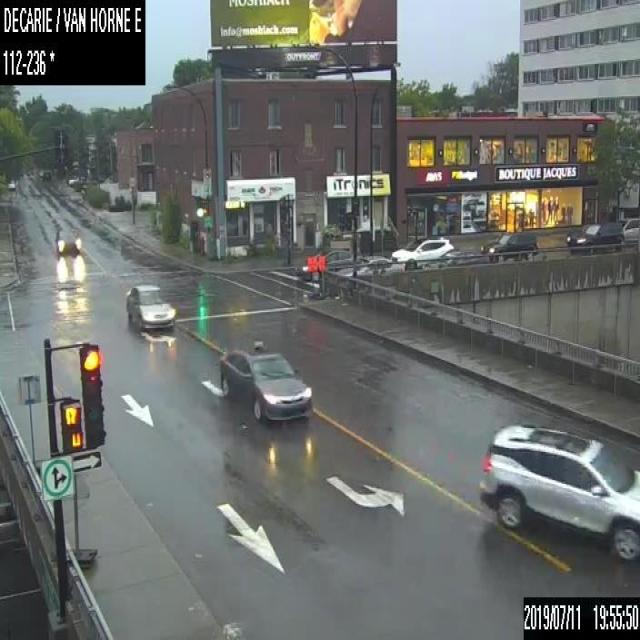construction: (64, 466, 97, 568), (16, 373, 45, 474), (307, 254, 316, 298), (317, 255, 325, 299)
vehicle: (476, 421, 639, 563), (218, 341, 313, 423), (124, 283, 176, 332), (391, 237, 453, 270), (294, 250, 362, 279), (479, 230, 537, 262), (565, 220, 619, 252), (334, 254, 404, 276), (421, 248, 489, 267), (616, 217, 639, 248), (55, 229, 80, 253), (41, 170, 50, 180)
